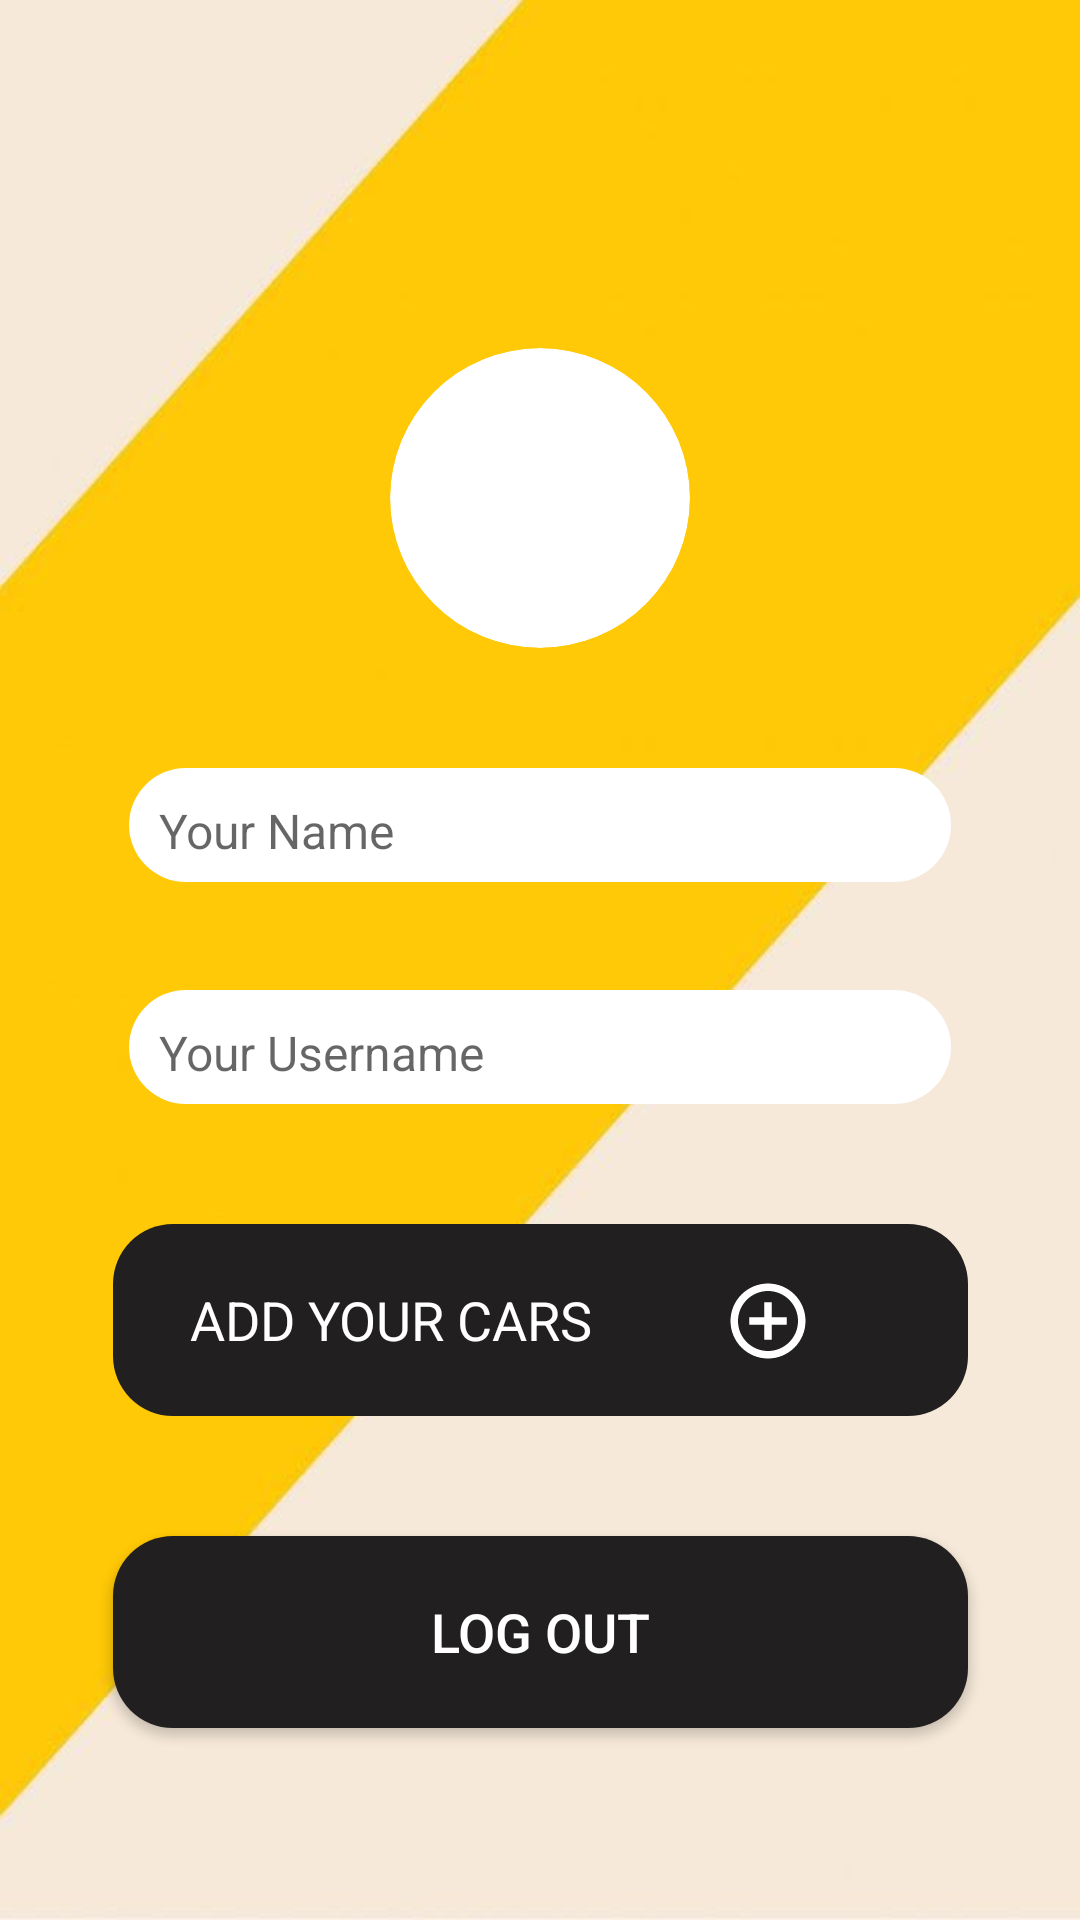

Named icons in this screenshot (1080×1920) and their centers, point (x, y):
add circle: point (768, 1321)
